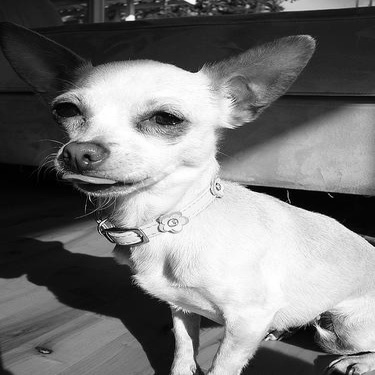dog: (44, 20, 369, 372)
